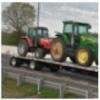tractors: (49, 20, 99, 70), (18, 26, 56, 58)
